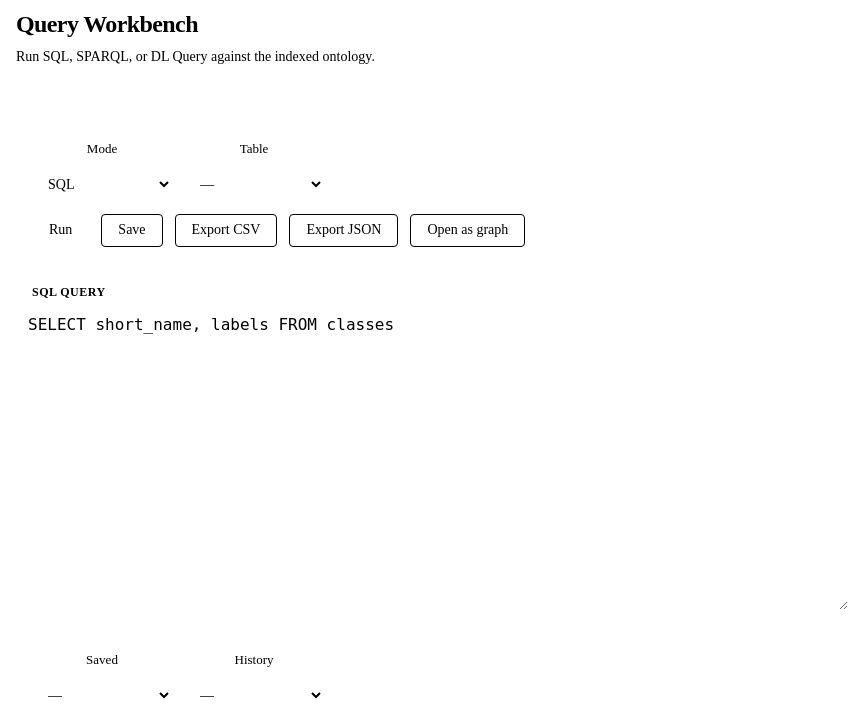
it: QueryWorkbenchPanel › switches to DL mode with Manchester starter and asserted toggle
Select "DL Query" in the dropdown labelled "Mode" at (102, 185), box [32,167,172,202]
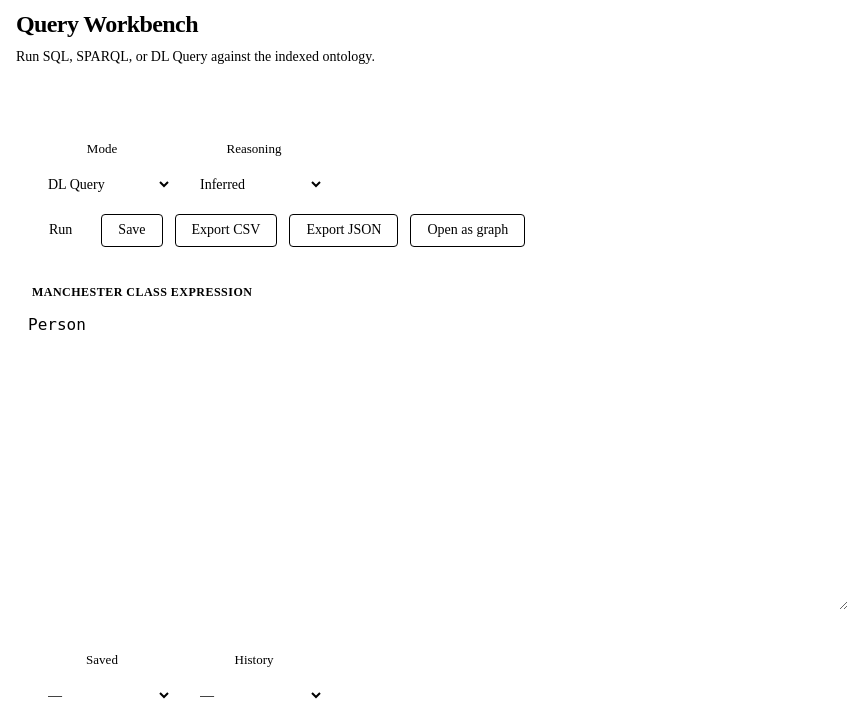
Now the text box holds "Person", box [16,304,848,610]
Now the text "Manchester class expression" is shown, box [32,285,252,299]
